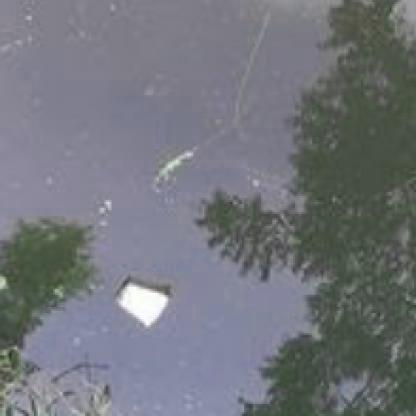Trash: (113, 279, 175, 330)
